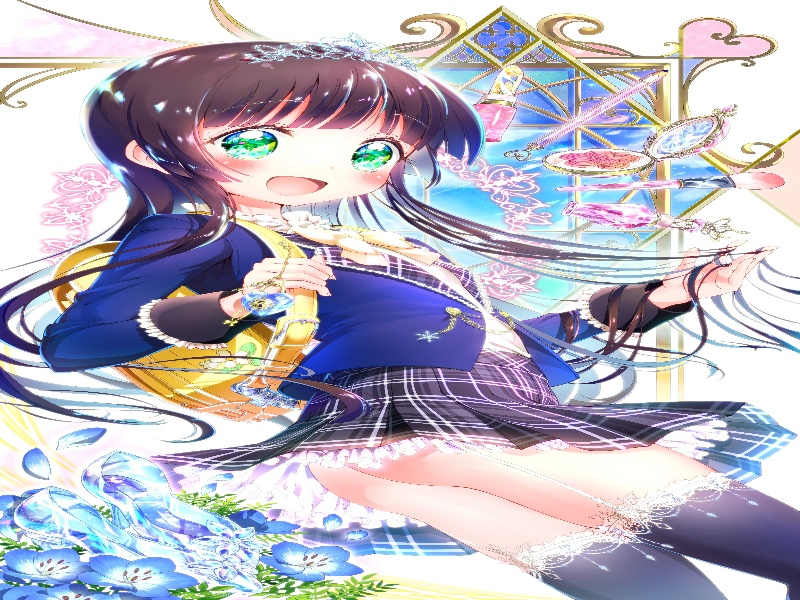dress: (198, 351, 793, 501)
person: (89, 41, 468, 246)
